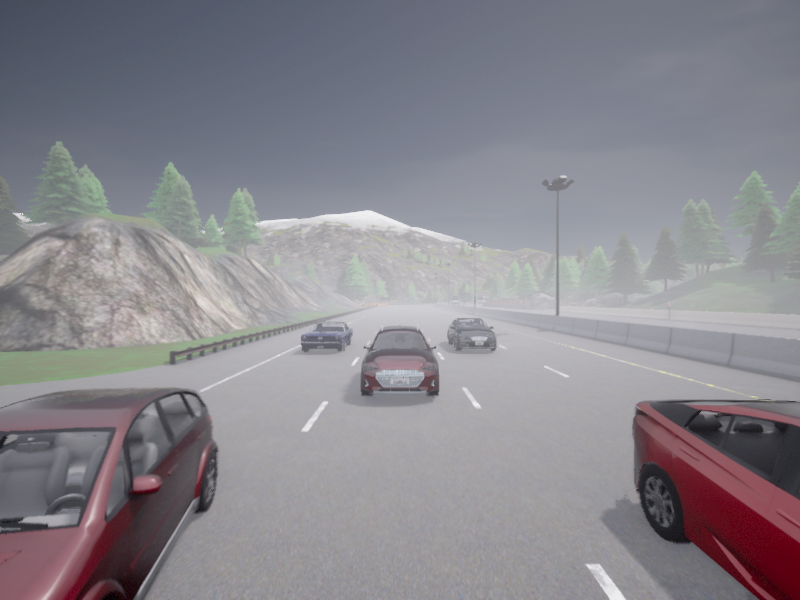vehicle: (0, 387, 218, 599), (632, 399, 799, 599), (361, 325, 438, 396), (447, 317, 496, 351), (300, 321, 352, 352), (450, 295, 459, 305), (478, 296, 490, 303), (462, 302, 466, 305), (489, 297, 493, 299)
